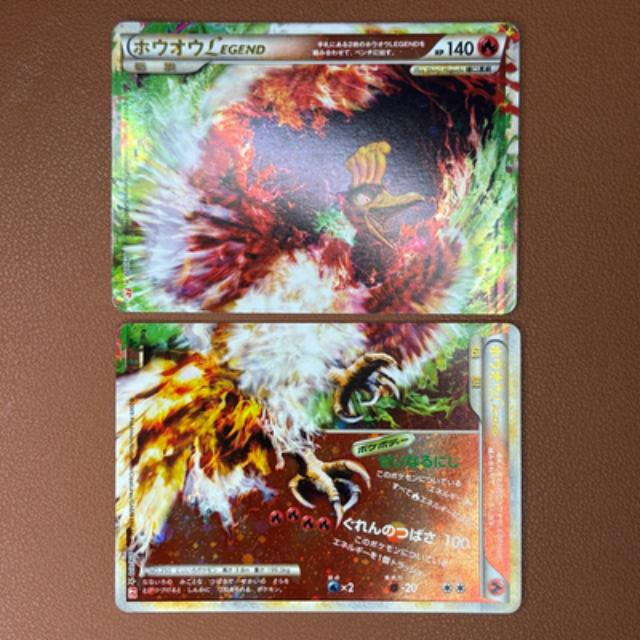Card: (109, 18, 523, 319), (110, 319, 527, 617)
Name: (126, 34, 271, 60), (483, 344, 508, 446)
